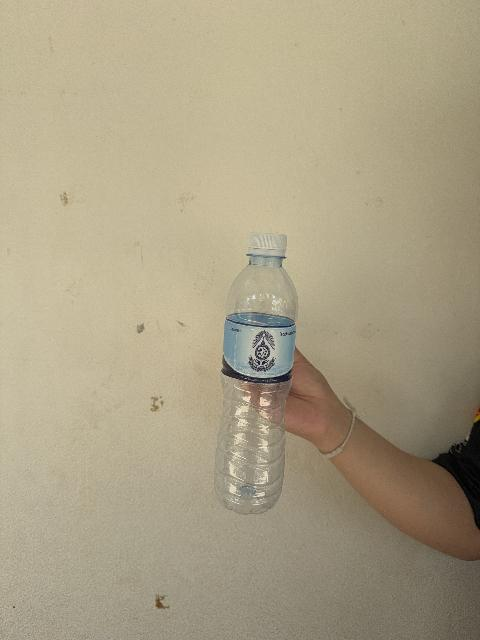bottle: (215, 233, 297, 514)
